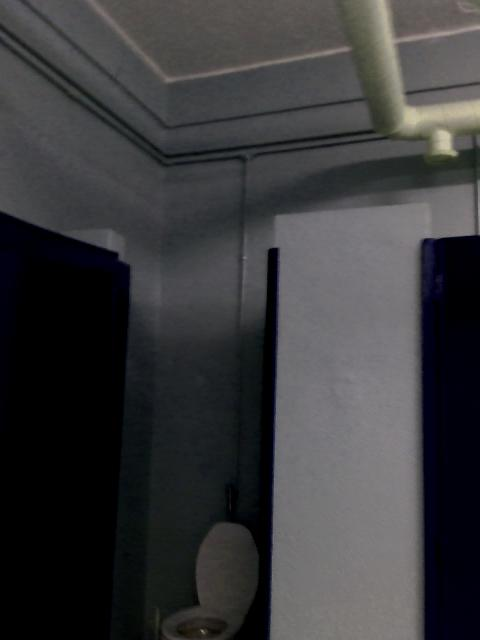open_door: (108, 210, 273, 639)
